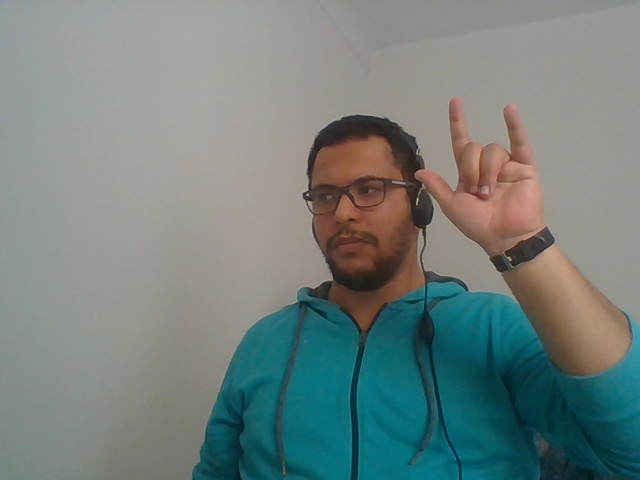iloveyou: (405, 80, 599, 343)
